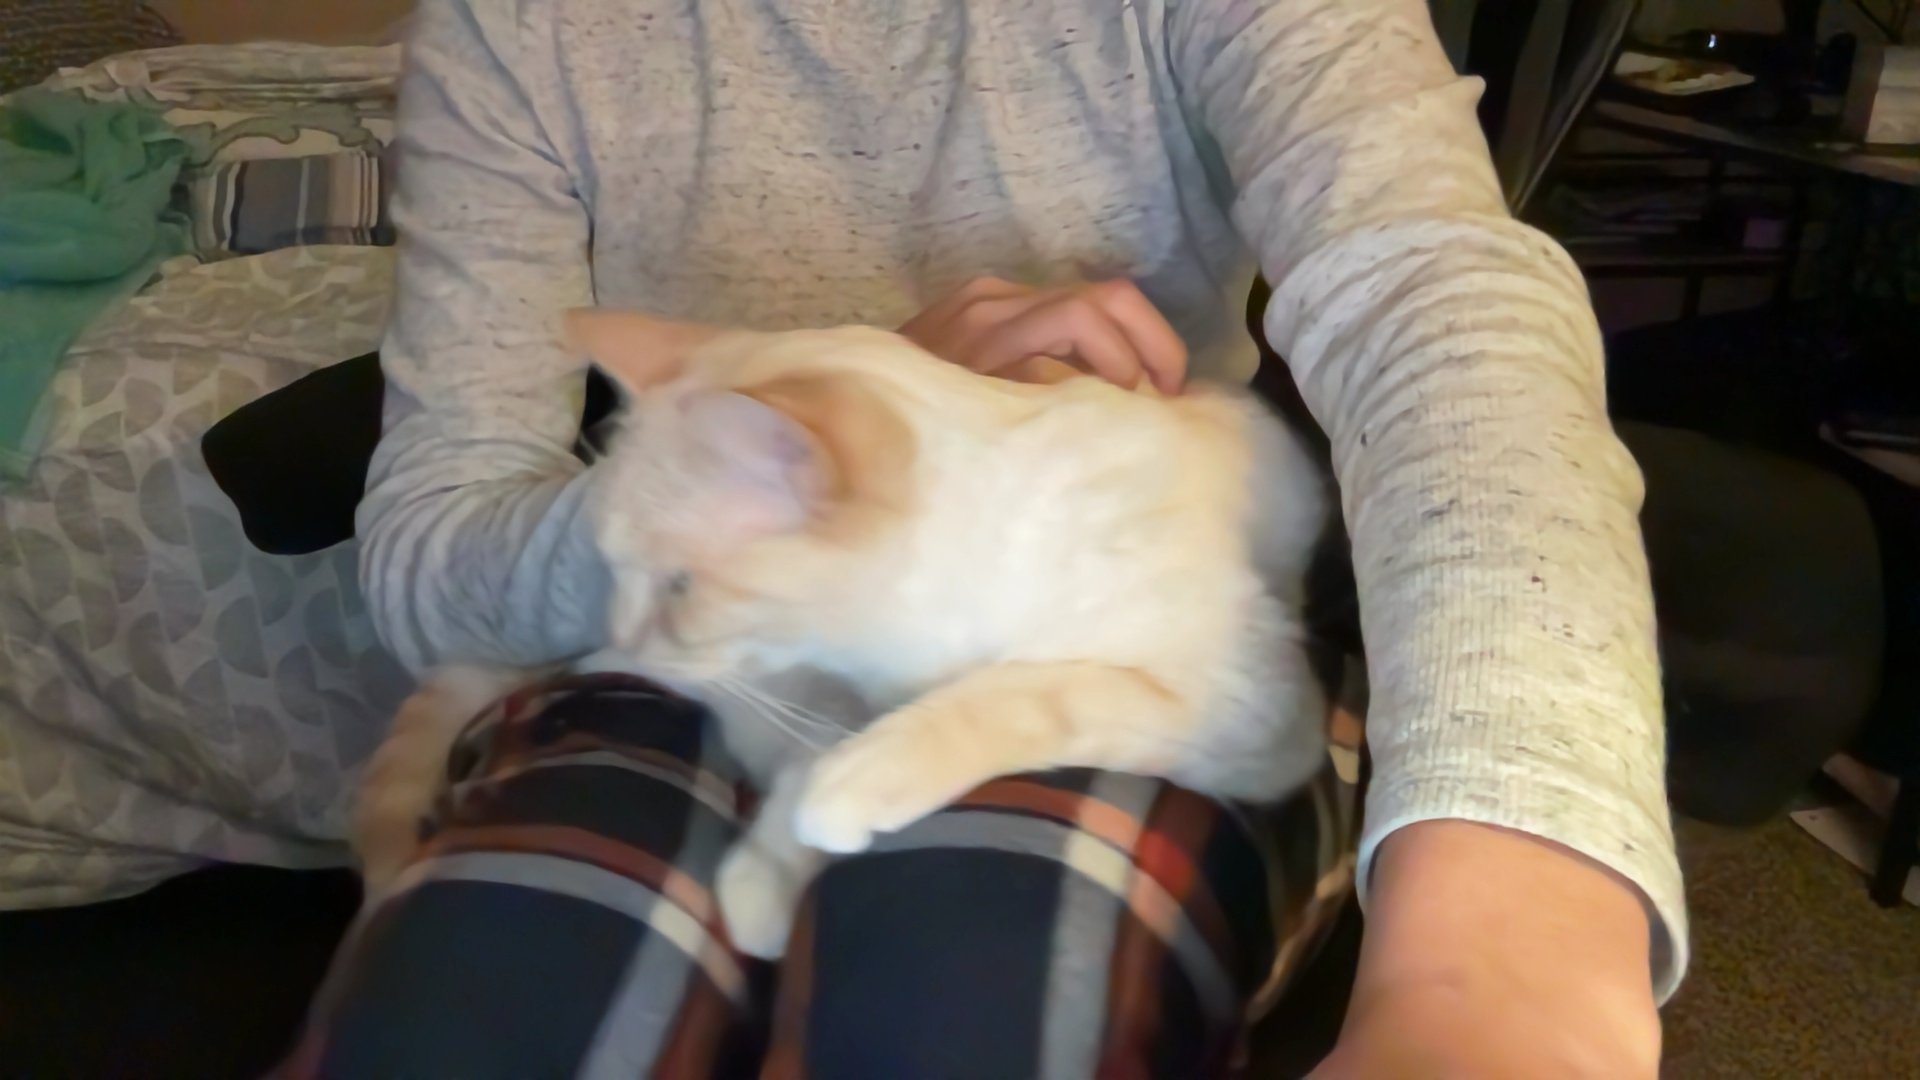cat: (553, 284, 1352, 837)
